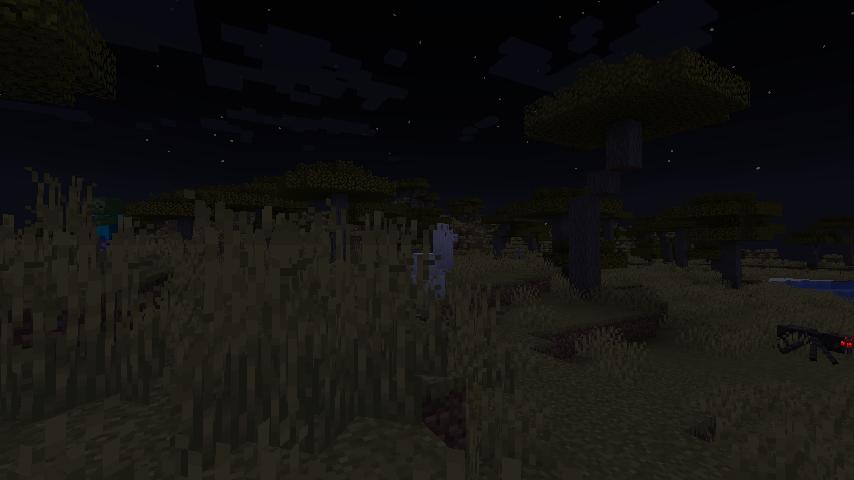llama: (400, 223, 460, 297)
spider: (775, 316, 854, 368)
zombie: (84, 194, 125, 252)
